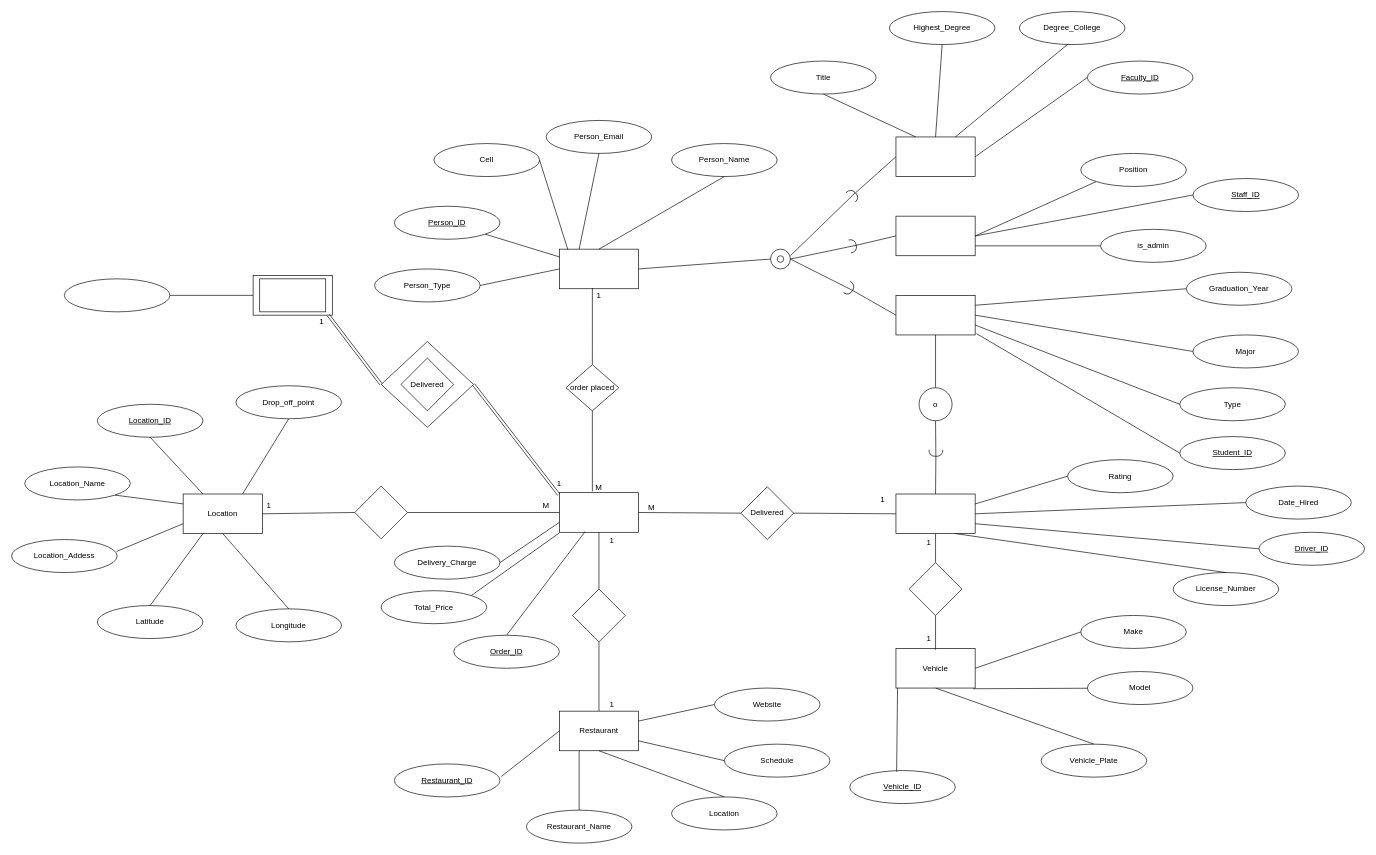
This 1376x855 diagram has some shape labels left out. Each missing label, with the centre of its shape:
"Delivery" goes at point 292,295.
"Delivery_Time" goes at point 117,295.
"Driven" goes at point 935,588.
"Driver" goes at point 935,513.
"Faculty" goes at point 935,156.
"From" goes at point 598,615.
"Order" goes at point 599,512.
"Person" goes at point 599,268.
"Reaches" goes at point 381,512.
"Staff" goes at point 935,235.
"Student" goes at point 935,315.
